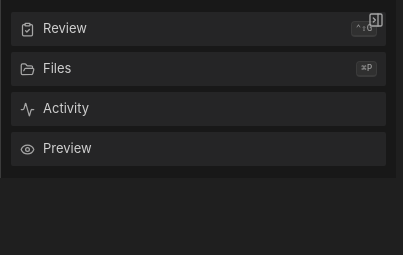
Test: utility panel › opens the Review, Files, and Activity views
Click the button "Review ⌃⇧G": x=65, y=28 [11, 12, 386, 46]
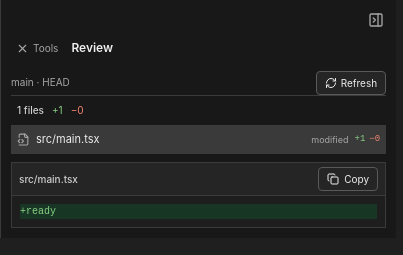
Expected: the element with test id "review-view" is shown, [11, 70, 386, 228]
Expected: the element with test id "diff-preview" shows "src/main.tsx", [19, 172, 78, 184]
Click the button "Tools": x=37, y=48 [11, 38, 63, 58]
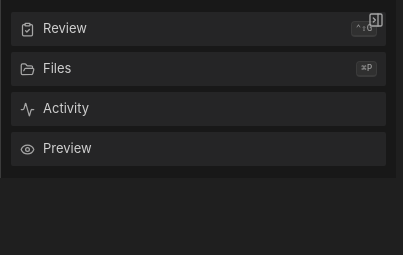
Click the button "Files ⌘P": x=28, y=69 [11, 52, 386, 86]
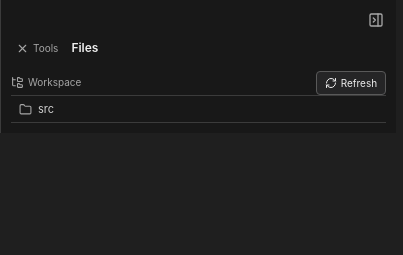
Expected: the element with test id "files-view" is shown, [11, 70, 386, 123]
Click the button "Tools": x=37, y=48 [11, 38, 63, 58]
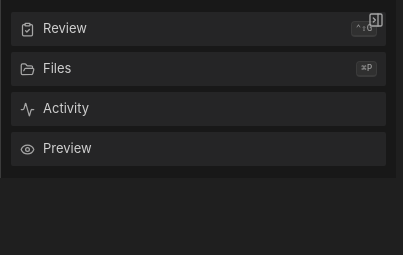
Click the button "Activity": x=66, y=108 [11, 92, 386, 126]
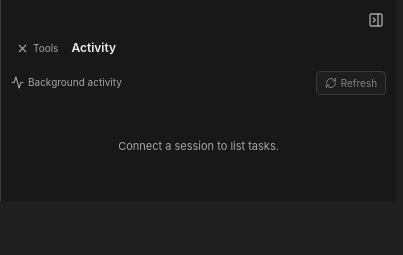
Expected: the element with test id "activity-view" is shown, [11, 70, 386, 191]
